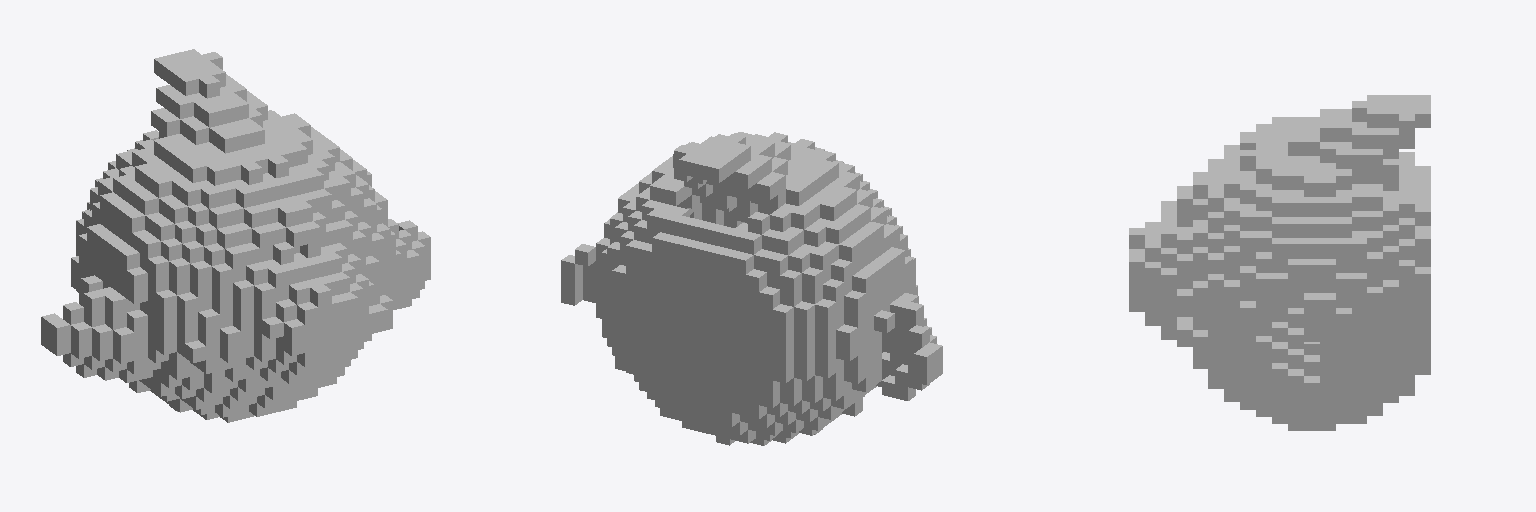
File: teste_02.obj
3 renders of one model, left to right at view 1: azimuth 30°, elevation 25°; view 2: azimuth 150°, elevation 25°; view 3: azimuth 270°, elevation 25°, orthographic.
Parts seen in each view (by area): view 1: _Combined_Mesh_[Voxel_Mesh]; view 2: _Combined_Mesh_[Voxel_Mesh]; view 3: _Combined_Mesh_[Voxel_Mesh].
Part boxes in pixels (bbox=[...]): _Combined_Mesh_[Voxel_Mesh]: bbox=[41, 49, 430, 422]; _Combined_Mesh_[Voxel_Mesh]: bbox=[561, 132, 942, 445]; _Combined_Mesh_[Voxel_Mesh]: bbox=[1129, 95, 1430, 430].
Size of the model in its own units: 1.38 by 1.05 by 0.9676.